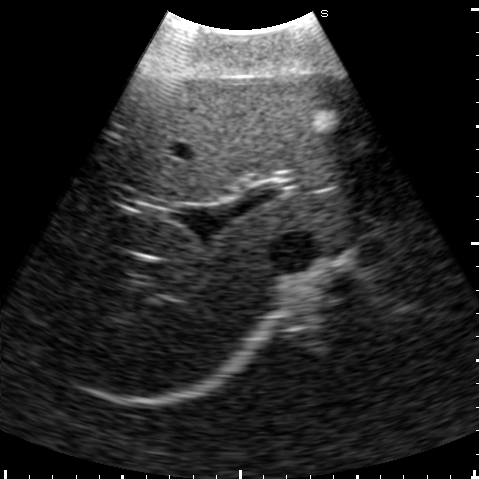IVC: (269, 232, 319, 273)
S1: (243, 192, 365, 249)
S2: (316, 181, 426, 222)
S3: (261, 75, 406, 188)
S4: (137, 72, 336, 204)
Tumor: (311, 110, 335, 132)
